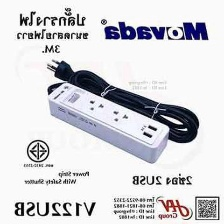three_eye_plug: (42, 77, 178, 167)
